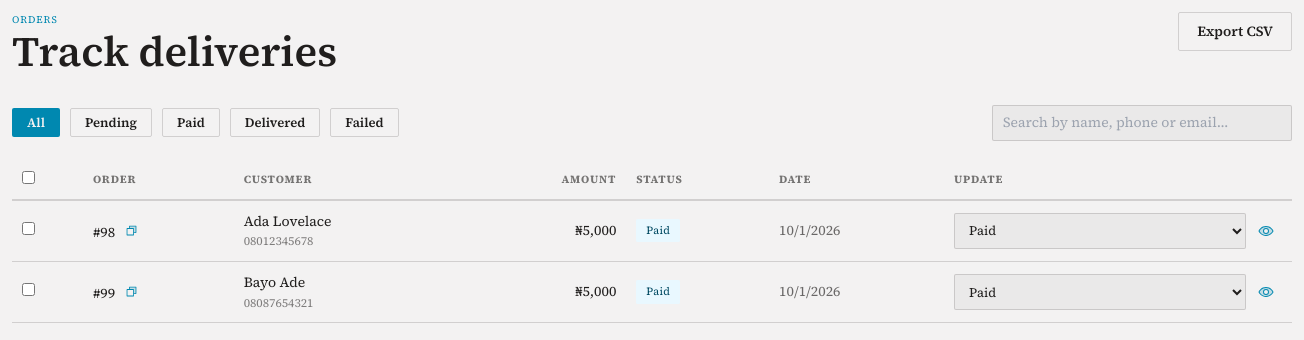
Admin orders page › filters orders by email in the search box
This screenshot has width=1304, height=340.
Expected: the text "Ada Lovelace" is shown, top-left (244, 211), bottom-right (332, 231)
Type "ADA@EXAMPLE" into the field with placeholder "Search by name, phone or email…".
click(1142, 122); type("ADA@EXAMPLE")  # box top-left (992, 104), bottom-right (1292, 140)
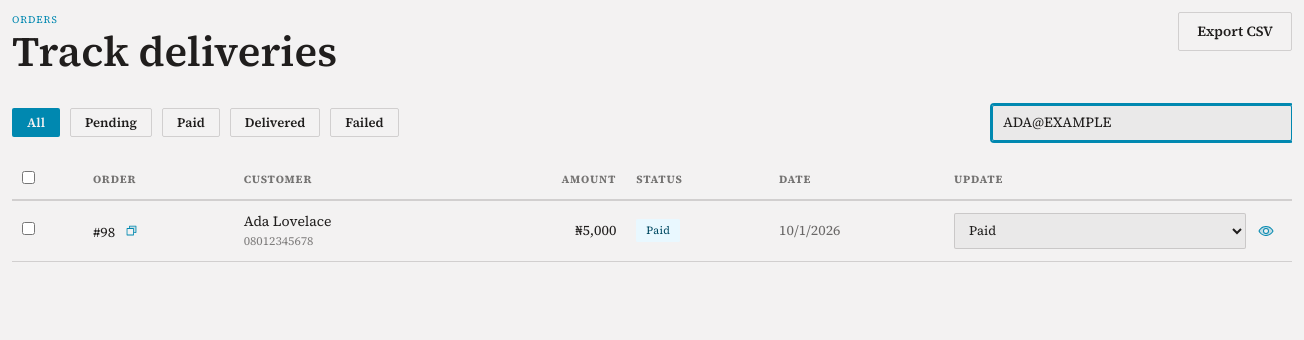
Expected: the text "Ada Lovelace" is shown, top-left (244, 211), bottom-right (332, 231)
Expected: the text "Bayo Ade" is gone
